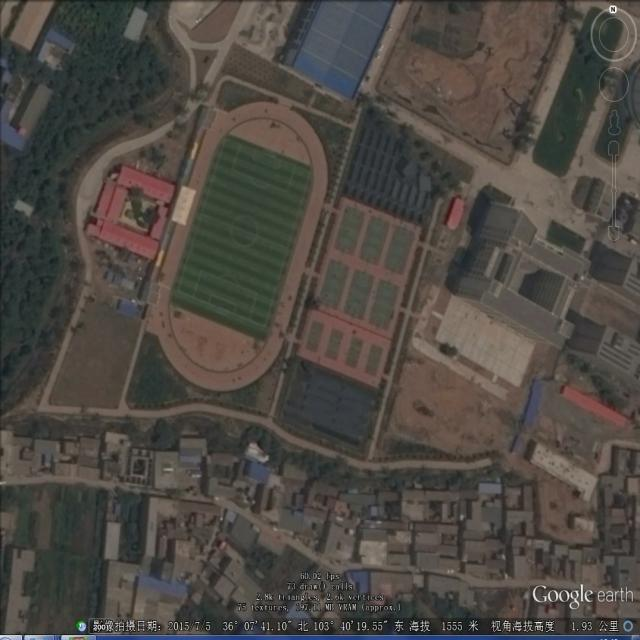playground: (143, 99, 333, 395)
